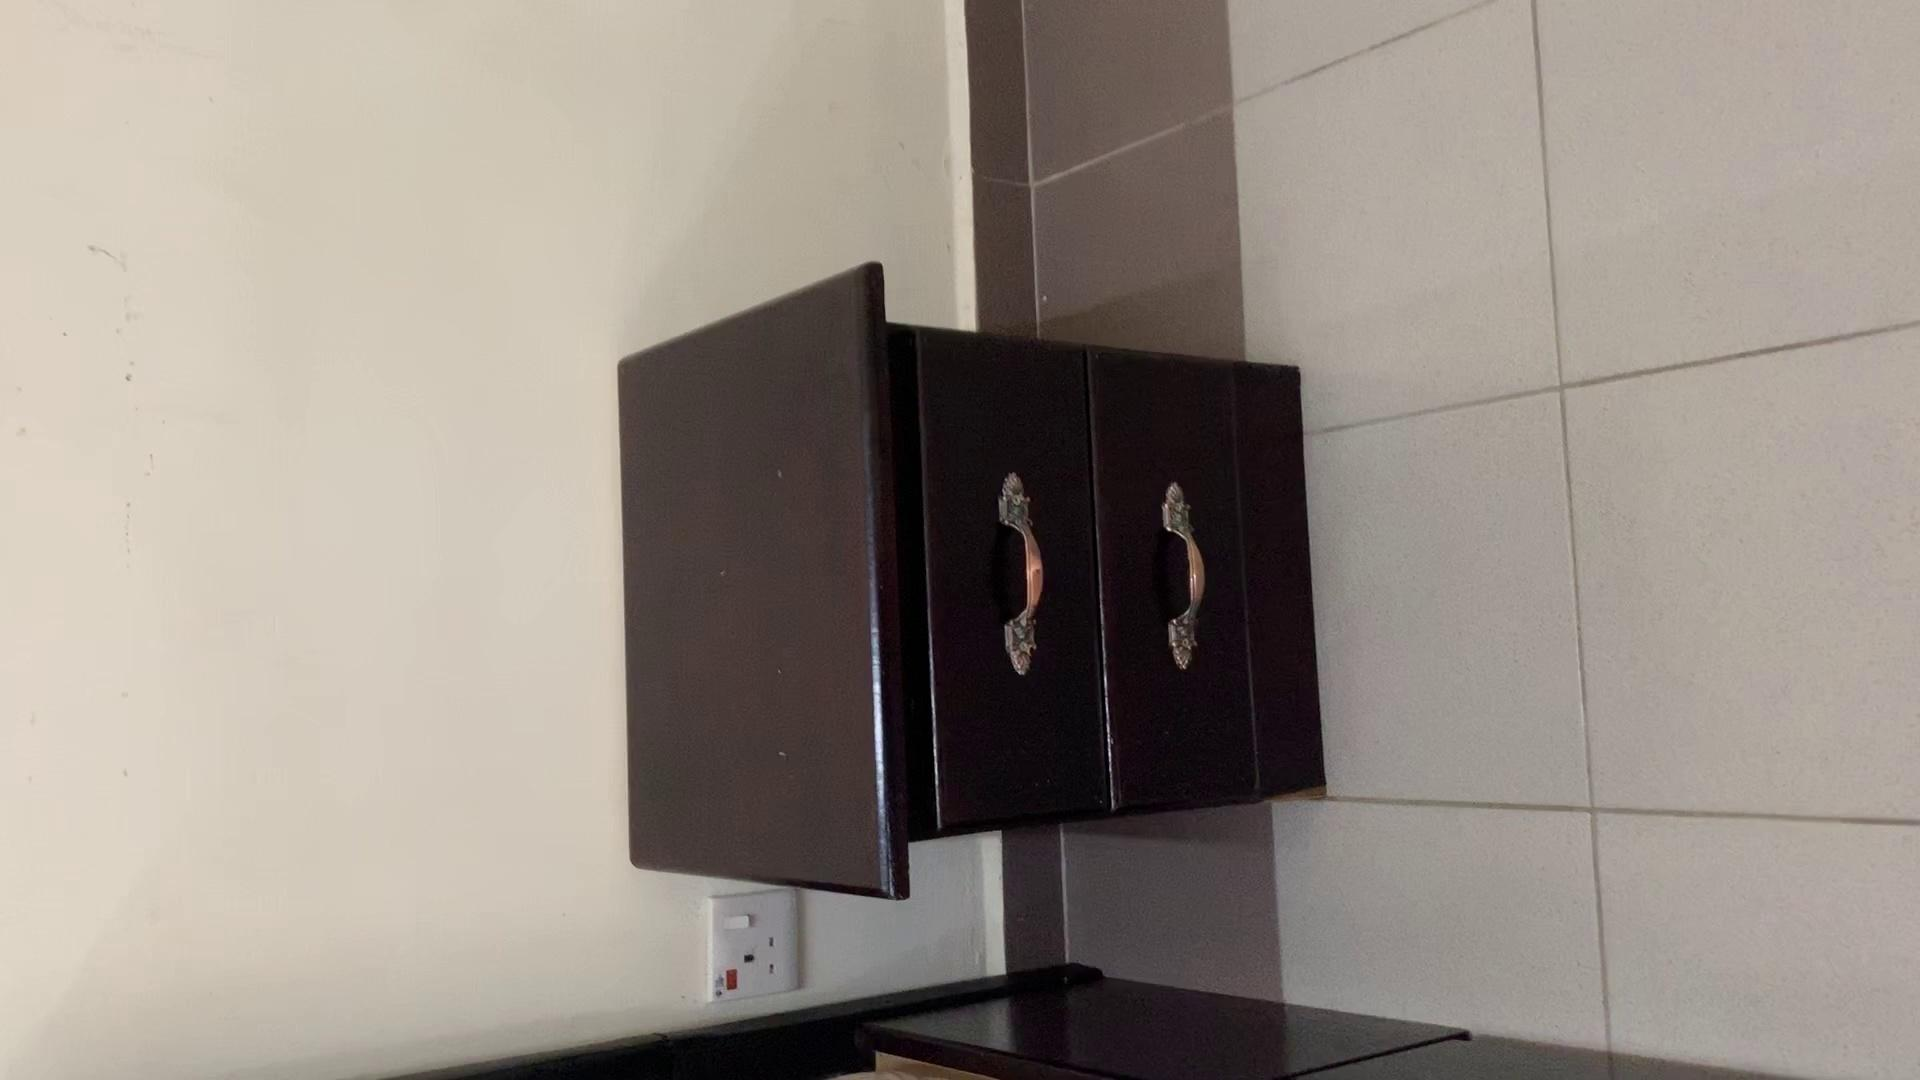cabinet_door: (918, 342, 1079, 810), (1116, 372, 1278, 796)
handle: (988, 465, 1059, 682), (1150, 473, 1213, 676)
